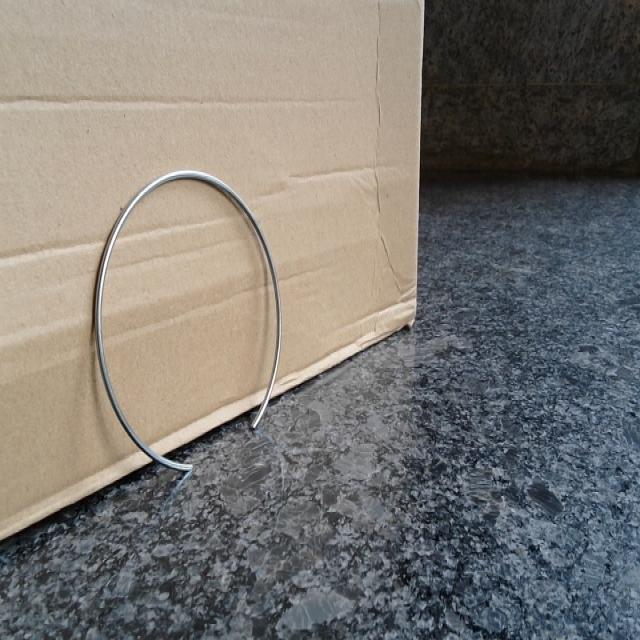metal-ring: (95, 170, 282, 472)
